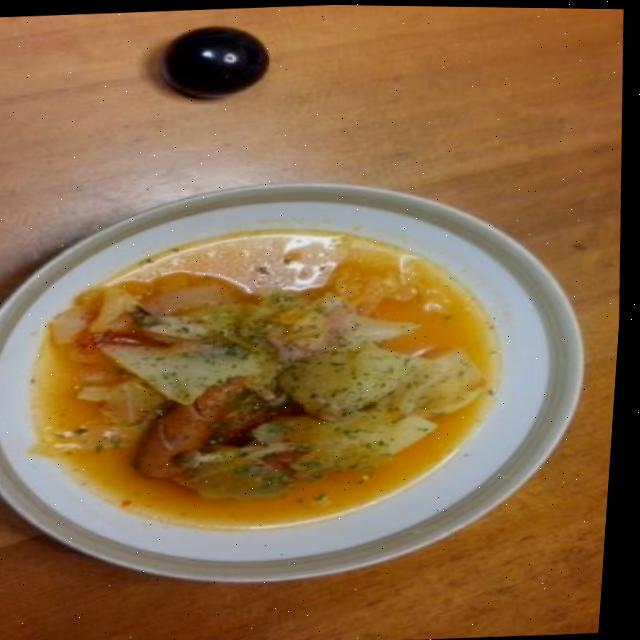汤锅炖物: (0, 138, 617, 602)
